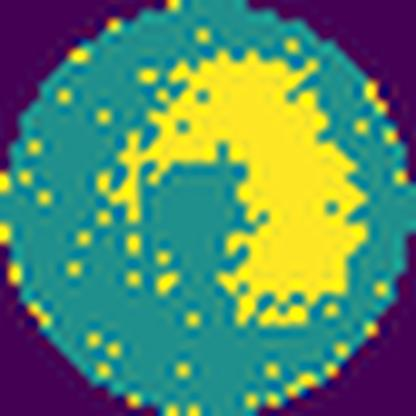Donut: (89, 46, 374, 333)
